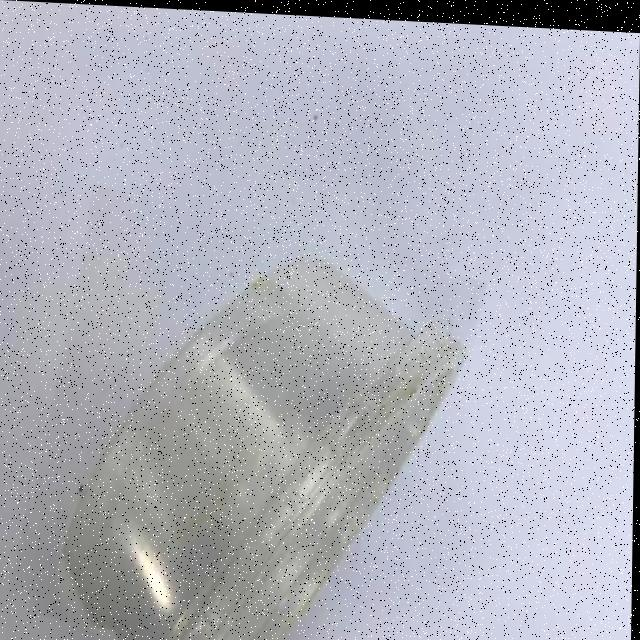plasticbottlecap: (28, 197, 472, 640)
